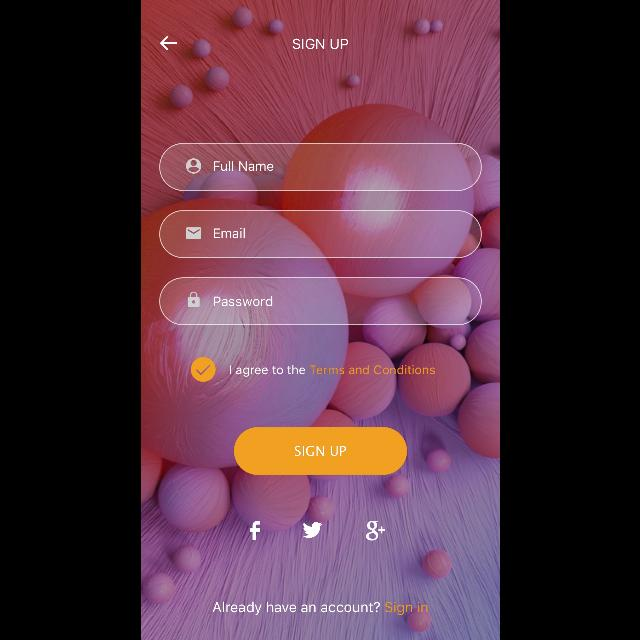backgroundimage: (140, 1, 500, 640)
checkbox: (190, 357, 214, 381)
icon: (365, 521, 385, 541), (302, 522, 322, 538), (160, 36, 177, 50), (186, 158, 200, 174), (187, 292, 199, 308), (250, 522, 260, 540), (186, 227, 200, 239)
input: (158, 143, 482, 191), (158, 210, 482, 258), (158, 277, 482, 325)
text: (212, 601, 428, 615), (229, 364, 435, 378), (292, 39, 348, 50), (213, 161, 273, 171), (214, 297, 272, 307), (213, 228, 244, 238)
textbutton: (233, 427, 407, 475)
